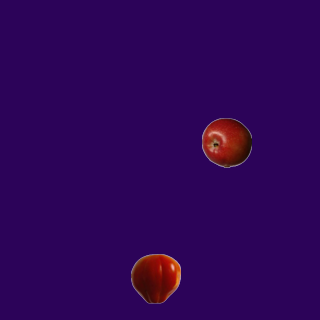Apple Braeburn: (201, 117, 251, 167)
Tomato 1: (130, 253, 180, 303)
